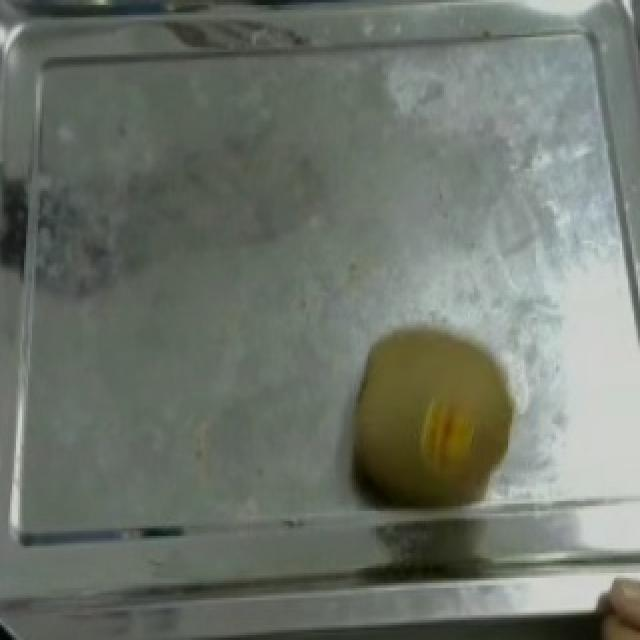Fruit: (334, 315, 536, 523)
